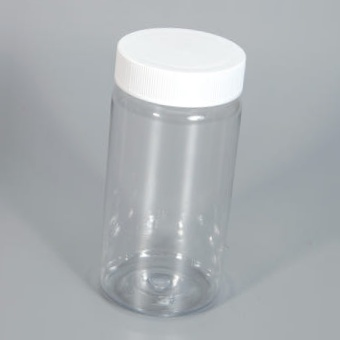plastic: (118, 49, 222, 303)
